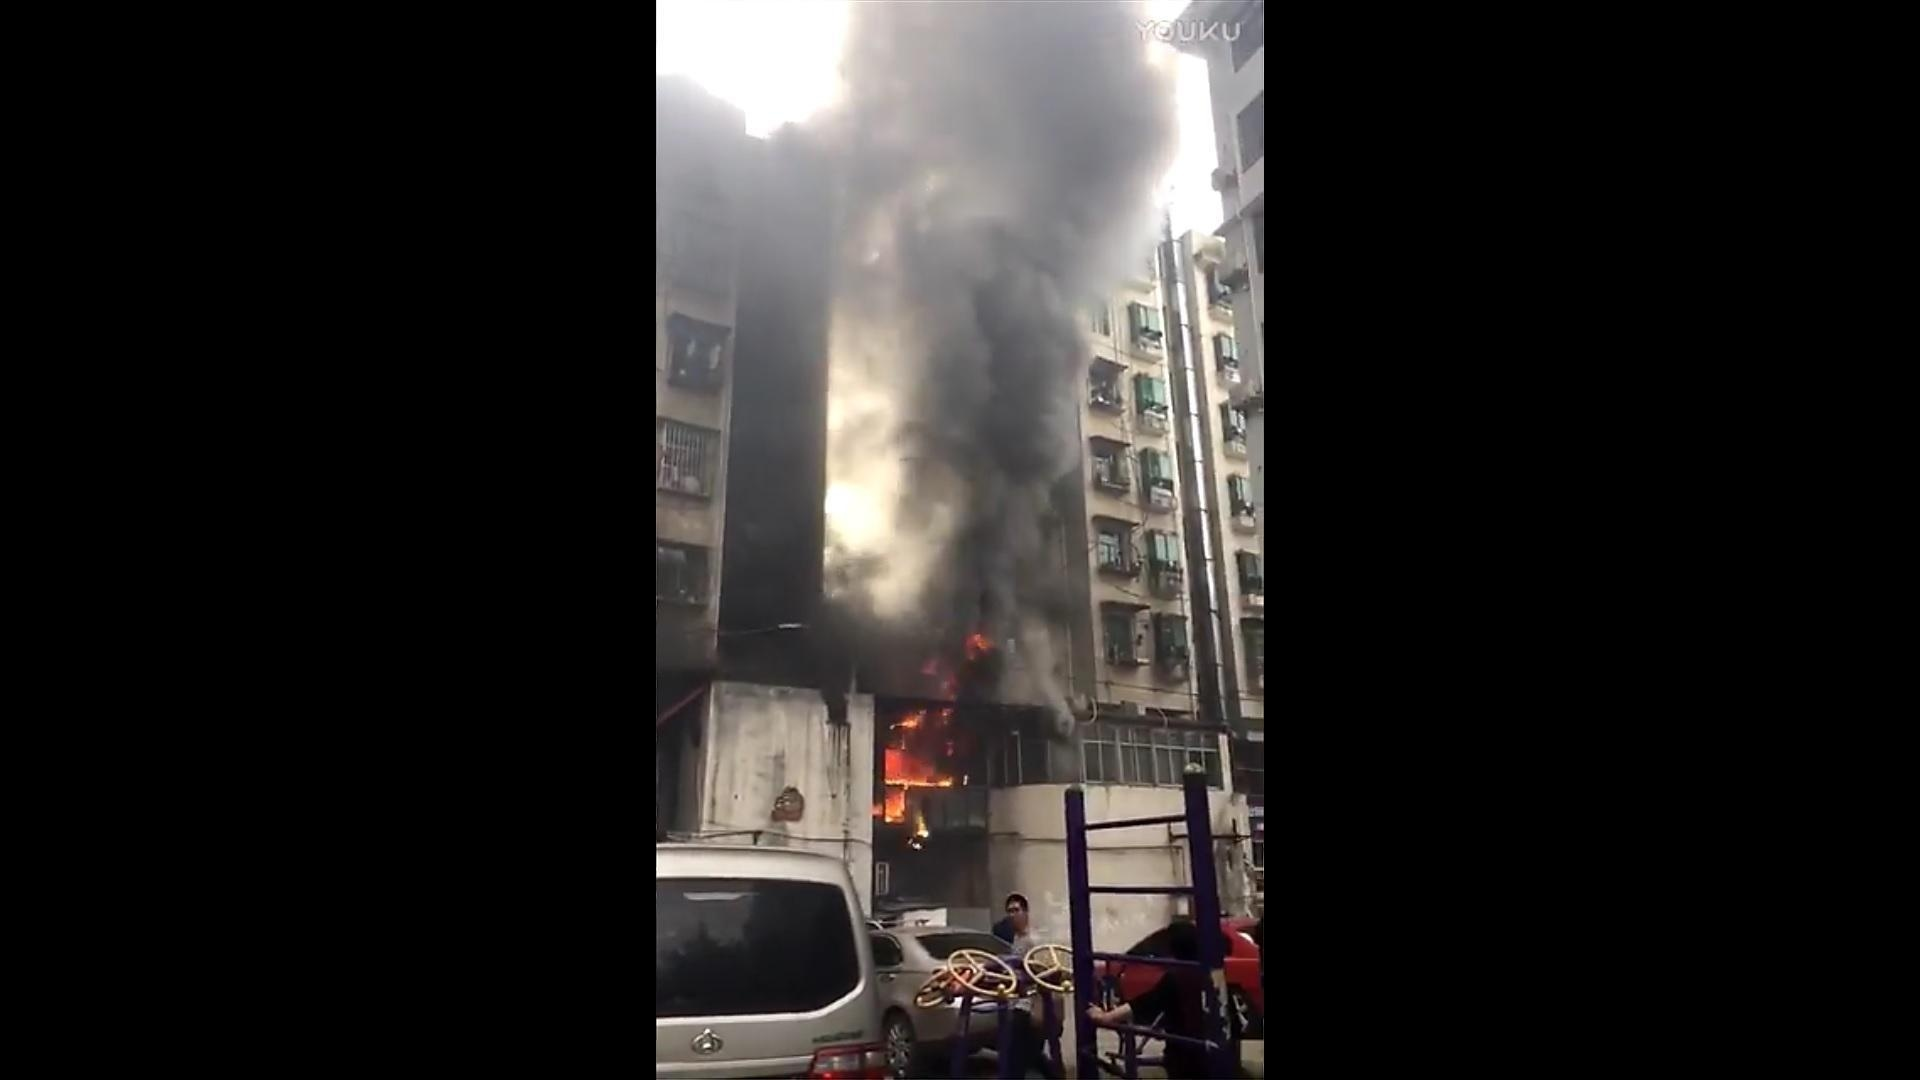fire: (872, 632, 988, 848)
